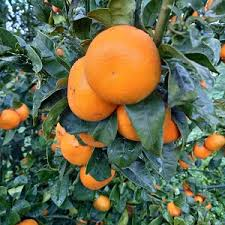orange: (88, 25, 164, 103), (57, 54, 118, 125), (116, 96, 182, 149), (60, 127, 102, 169)
